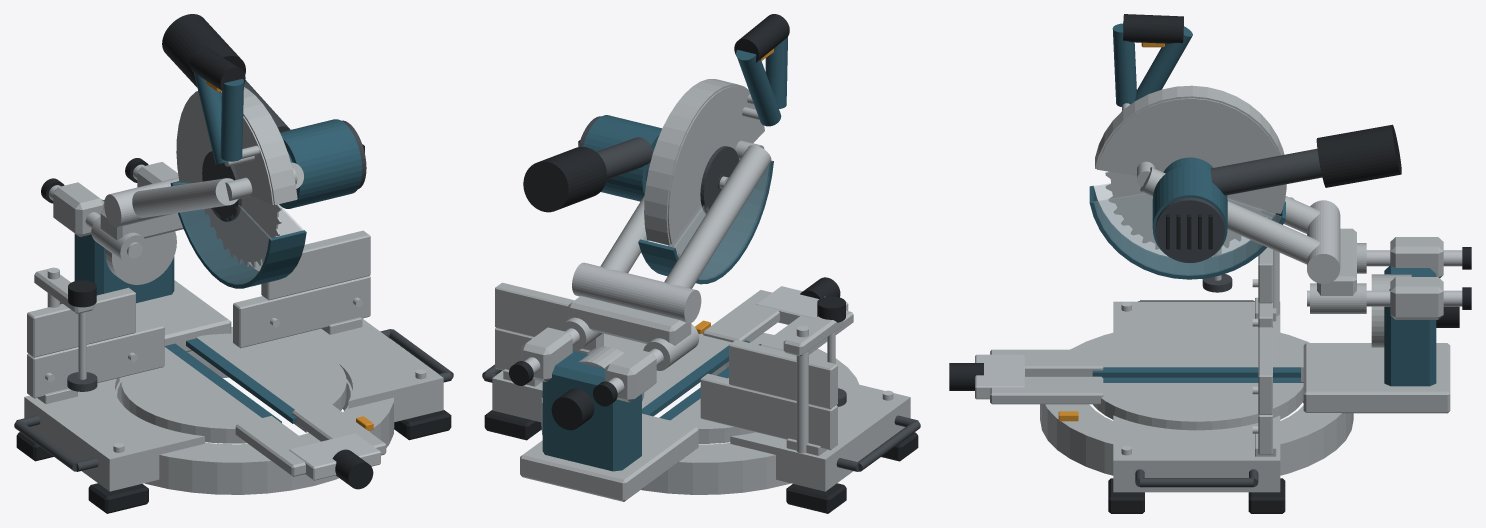
3 views of the same model, side by side, from view 1: azimuth 30°, elevation 25°; view 2: azimuth 150°, elevation 25°; view 3: azimuth 270°, elevation 25° (orthographic). The views are drawn at different scales.
Visible parts, largest first — view 1: Base wing -1, Base annular casting, Base wing 1, Table half -1, Table half 1, Fence lower 1, Fence lower -1, Motor housing, Fence upper -1, Lower guard side -1, Lower guard rim, Fence upper 1 (+32 smaller); view 2: Bevel carrier, Base wing -1, Turntable rear bridge, Upper guard side -1, Base annular casting, Fence lower -1, Fence upper -1, Head arm -1, Upper guard crown, Plunge pivot, Dust bag, Lower guard rim (+34 smaller); view 3: Upper guard side 1, Base wing 1, Turntable rear bridge, Base annular casting, Table half 1, Table half -1, Lower guard side 1, Base wing -1, Dust bag, Bevel carrier, Lower guard rim, Dust outlet (+30 smaller).
Part boxes in pixels (x1=…): Base wing -1: x1=24, y1=378, x2=204, y2=491; Base annular casting: x1=115, y1=327, x2=394, y2=494; Base wing 1: x1=282, y1=318, x2=443, y2=422; Table half -1: x1=121, y1=347, x2=261, y2=443; Table half 1: x1=196, y1=333, x2=346, y2=432; Fence lower 1: x1=233, y1=276, x2=370, y2=348; Fence lower -1: x1=27, y1=322, x2=164, y2=398; Motor housing: x1=279, y1=119, x2=362, y2=208; Fence upper -1: x1=27, y1=287, x2=135, y2=357; Lower guard side -1: x1=173, y1=183, x2=271, y2=284; Lower guard rim: x1=170, y1=181, x2=306, y2=288; Fence upper 1: x1=261, y1=230, x2=370, y2=300; Bevel carrier: x1=542, y1=350, x2=641, y2=471; Base wing -1: x1=730, y1=379, x2=910, y2=491; Turntable rear bridge: x1=520, y1=413, x2=698, y2=501; Upper guard side -1: x1=667, y1=86, x2=764, y2=244; Base annular casting: x1=541, y1=333, x2=859, y2=494; Fence lower -1: x1=700, y1=373, x2=837, y2=450; Fence upper -1: x1=729, y1=339, x2=837, y2=409; Head arm -1: x1=664, y1=145, x2=771, y2=288; Upper guard crown: x1=644, y1=79, x2=749, y2=245; Plunge pivot: x1=572, y1=262, x2=701, y2=323; Dust bag: x1=523, y1=147, x2=606, y2=212; Lower guard rim: x1=638, y1=160, x2=773, y2=284; Upper guard side 1: x1=1097, y1=98, x2=1284, y2=213; Base wing 1: x1=1113, y1=415, x2=1280, y2=492; Turntable rear bridge: x1=1303, y1=343, x2=1450, y2=413; Base annular casting: x1=1040, y1=332, x2=1353, y2=475; Table half 1: x1=1093, y1=383, x2=1303, y2=430; Table half -1: x1=1103, y1=328, x2=1303, y2=381; Lower guard side 1: x1=1094, y1=193, x2=1281, y2=275; Base wing -1: x1=1113, y1=301, x2=1280, y2=344; Dust bag: x1=1316, y1=124, x2=1401, y2=187; Bevel carrier: x1=1384, y1=265, x2=1436, y2=386; Lower guard rim: x1=1089, y1=185, x2=1285, y2=279; Dust outlet: x1=1210, y1=148, x2=1322, y2=195.
Bounding box in the file's own units: 0.644 × 0.66 × 0.783.
